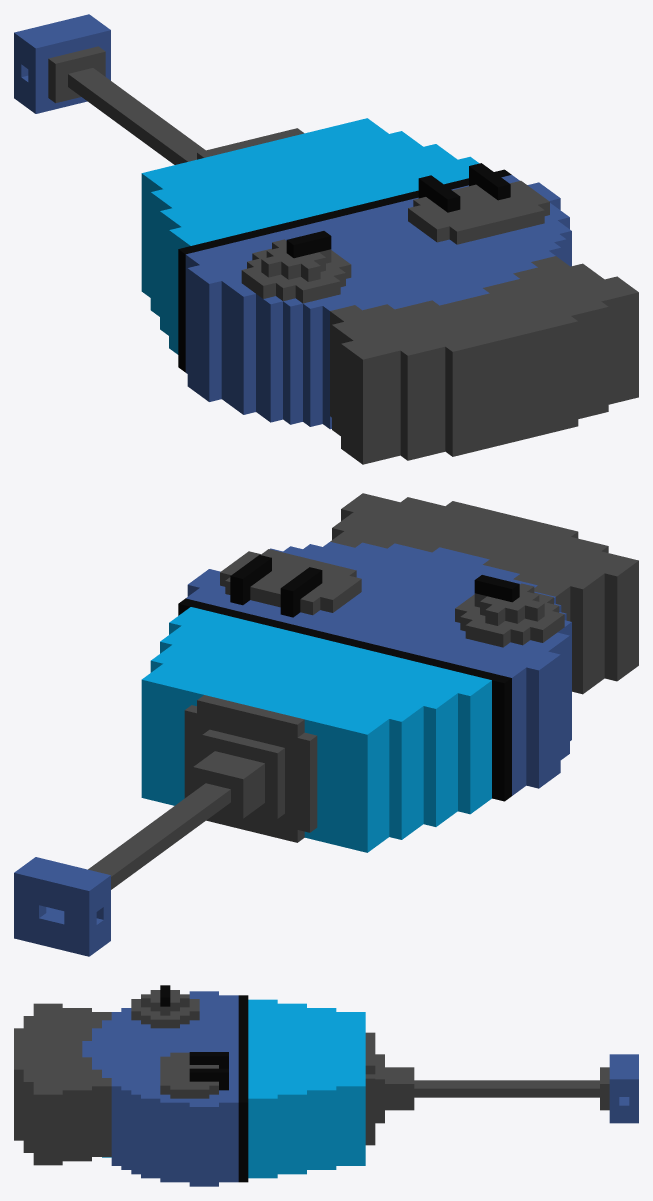
The model's file is Tank_Blue-0.obj.
3 views of the same model, one above another, from view 1: azimuth 30°, elevation 25°; view 2: azimuth 150°, elevation 25°; view 3: azimuth 270°, elevation 25° (orthographic). The views are drawn at different scales.
Bounding box in the file's own units: 2.8 × 1.2 × 6.4.
1 material, 1 textured.
